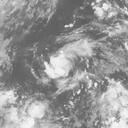cyclone: (47, 38, 102, 92)
